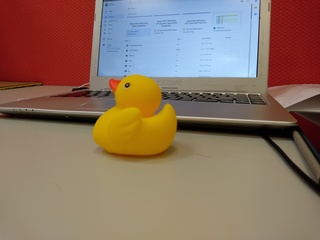duck: (90, 72, 183, 161)
